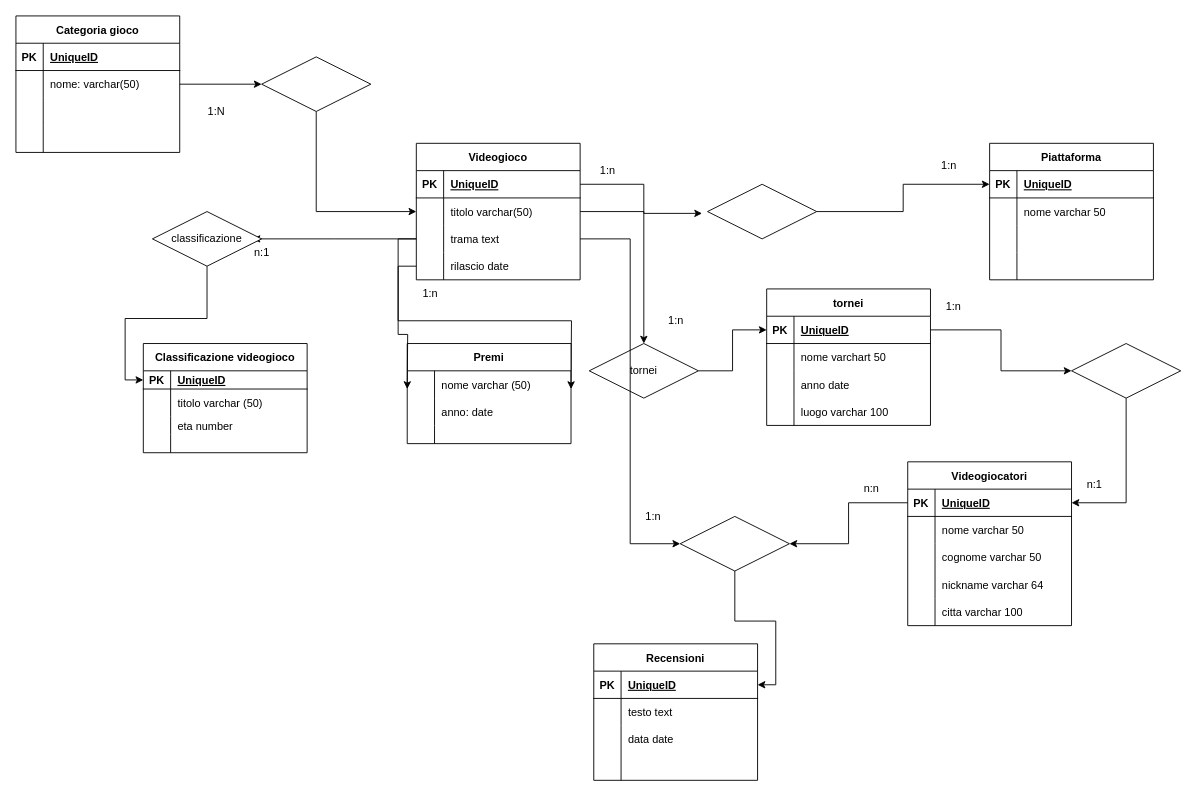
The diagram is 1197 pixels wide and 796 high, and some of its shapes have lost their labels. The shapes that lost their labels are listed below. From the top down, each one's centre as x and y in pixels, then its label:
At (x=316, y=83): "Categoria".
At (x=762, y=211): "Piattaforme".
At (x=1126, y=370): "torneo_videogioco".
At (x=734, y=543): "recensione_videogioco".
